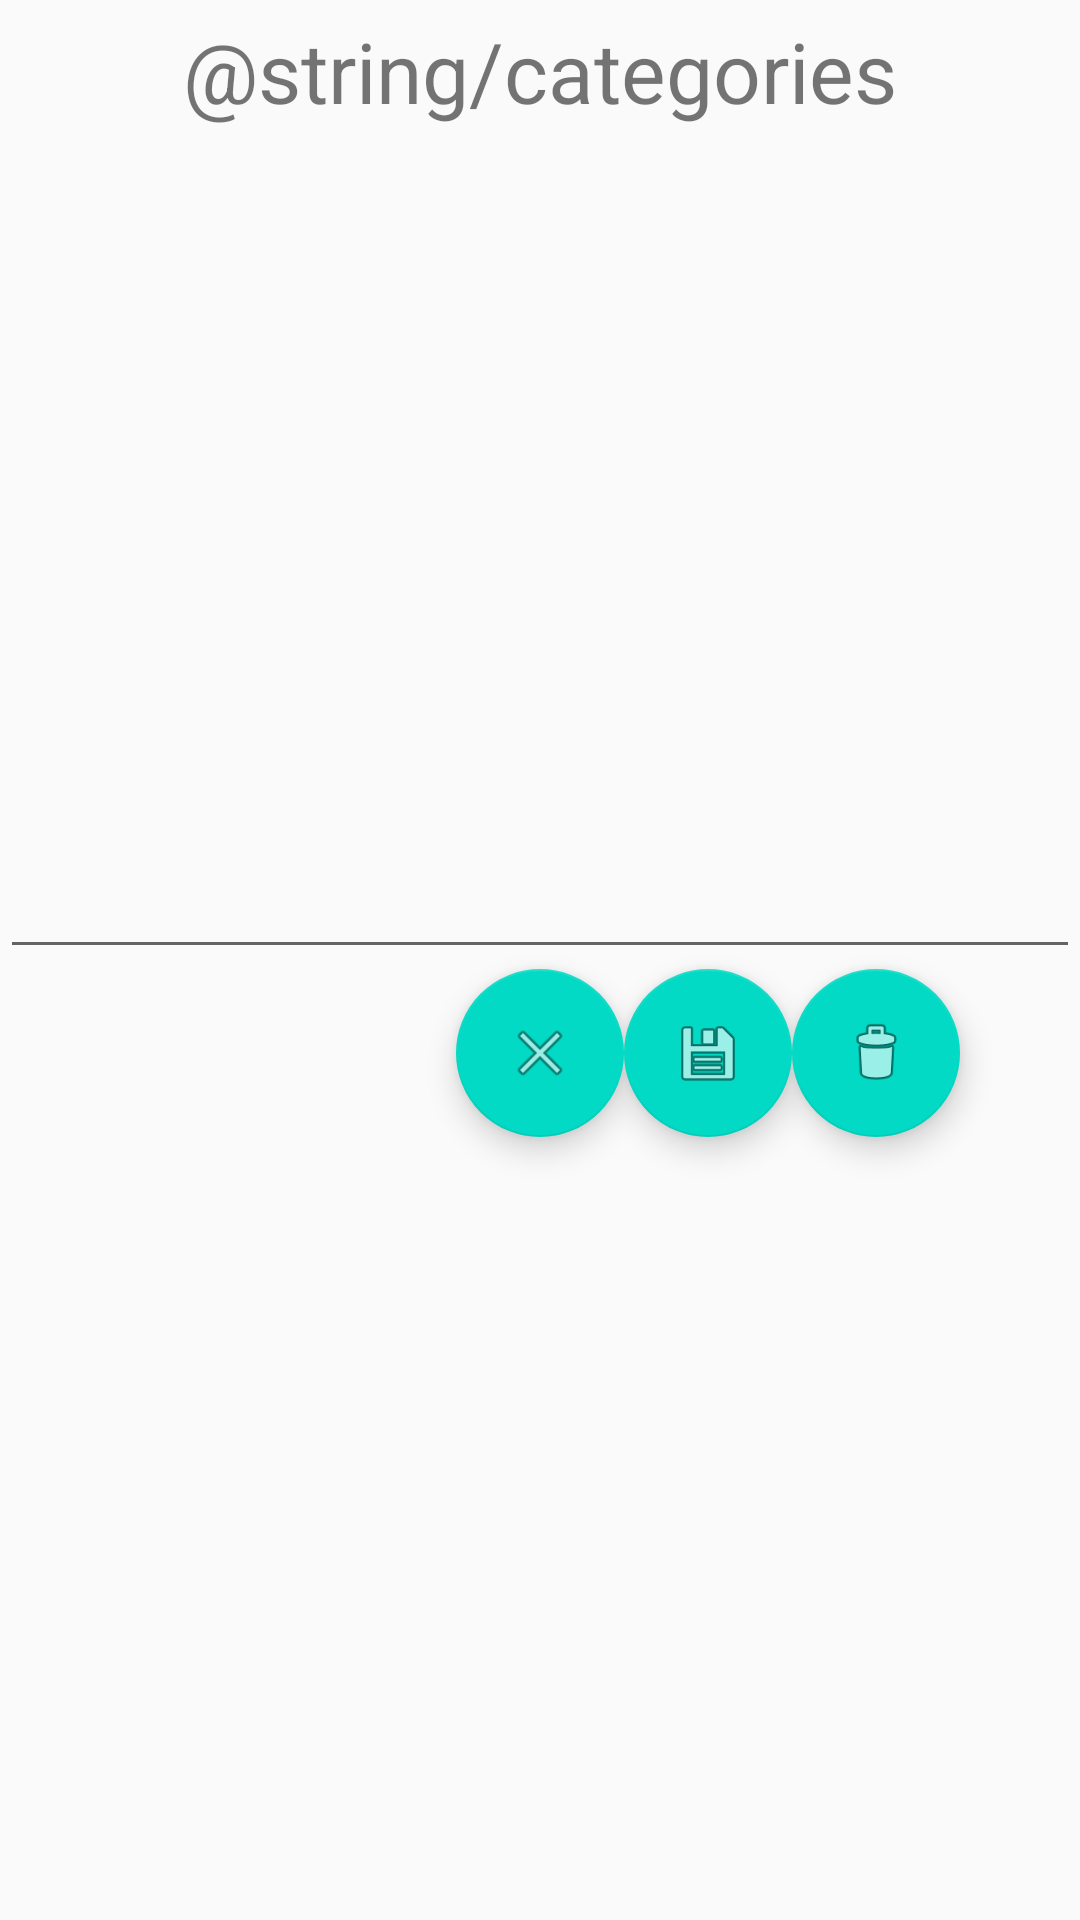

Named icons in this screenshot (1080px x 1920px) and their centers, (x=x, y=y):
close clear cancel: (x=540, y=1053)
delete: (x=876, y=1053)
save: (x=708, y=1053)
